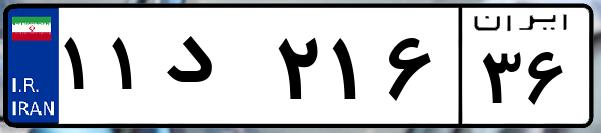1: (330, 28, 385, 110), (57, 26, 110, 100), (110, 28, 158, 98)
2: (270, 28, 330, 110)
3: (475, 38, 525, 113)
6: (385, 28, 445, 110), (525, 38, 570, 115)
د: (158, 20, 270, 120)
